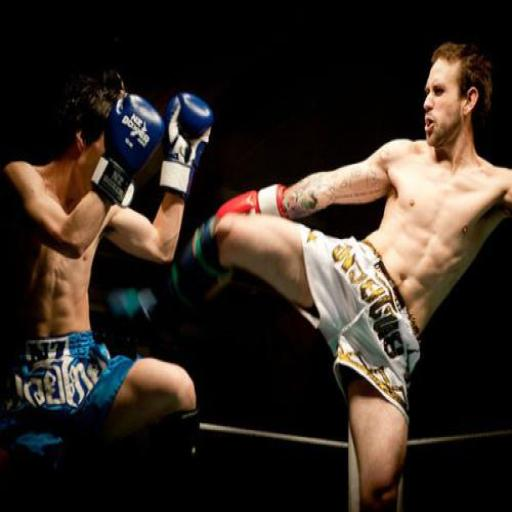boxing: (169, 40, 511, 510), (0, 52, 242, 498)
